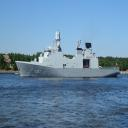Fragata: (15, 30, 121, 81)
